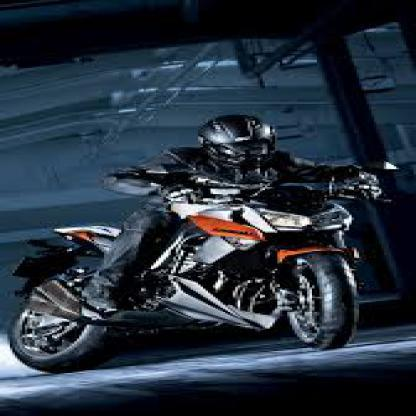Motorcycle: (10, 169, 378, 371)
